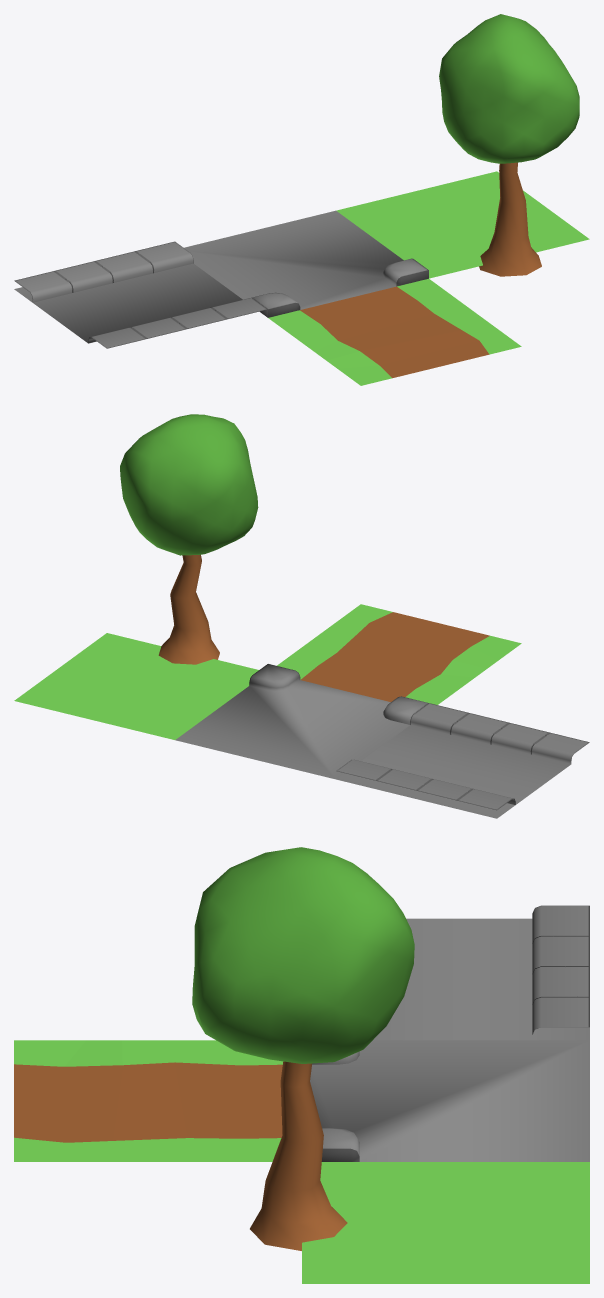
The model's file is StreetPieces2.glb.
The picture shows the model from 3 angles, top to bottom: view 1: azimuth 30°, elevation 25°; view 2: azimuth 150°, elevation 25°; view 3: azimuth 270°, elevation 25°; orthographic projection. The views are drawn at different scales.
Visible parts, largest first — view 1: Tree, PavementEdge2, Grasspath, PavementOuterCorner2, Grass; view 2: Tree, PavementEdge2, PavementOuterCorner2, Grasspath, Grass; view 3: Tree, Grass, PavementOuterCorner2, Grasspath, PavementEdge2.
Boxes of the visible parts, x1,y1,x2,y2 form: Tree: (439,14,579,276); PavementEdge2: (14,241,267,348); Grasspath: (268,278,521,385); PavementOuterCorner2: (184,210,428,317); Grass: (336,171,589,278); Tree: (120,414,258,664); PavementEdge2: (336,703,589,818); PavementOuterCorner2: (175,664,428,779); Grasspath: (277,604,521,704); Grass: (14,633,258,739); Tree: (192,847,414,1250); Grass: (302,1162,589,1283); PavementOuterCorner2: (310,1040,589,1161); Grasspath: (14,1040,283,1161); PavementEdge2: (373,905,589,1040).
Bounding box in the file's own units: 6 × 2.85 × 4.
Materials: 2 (2 with a texture image).
